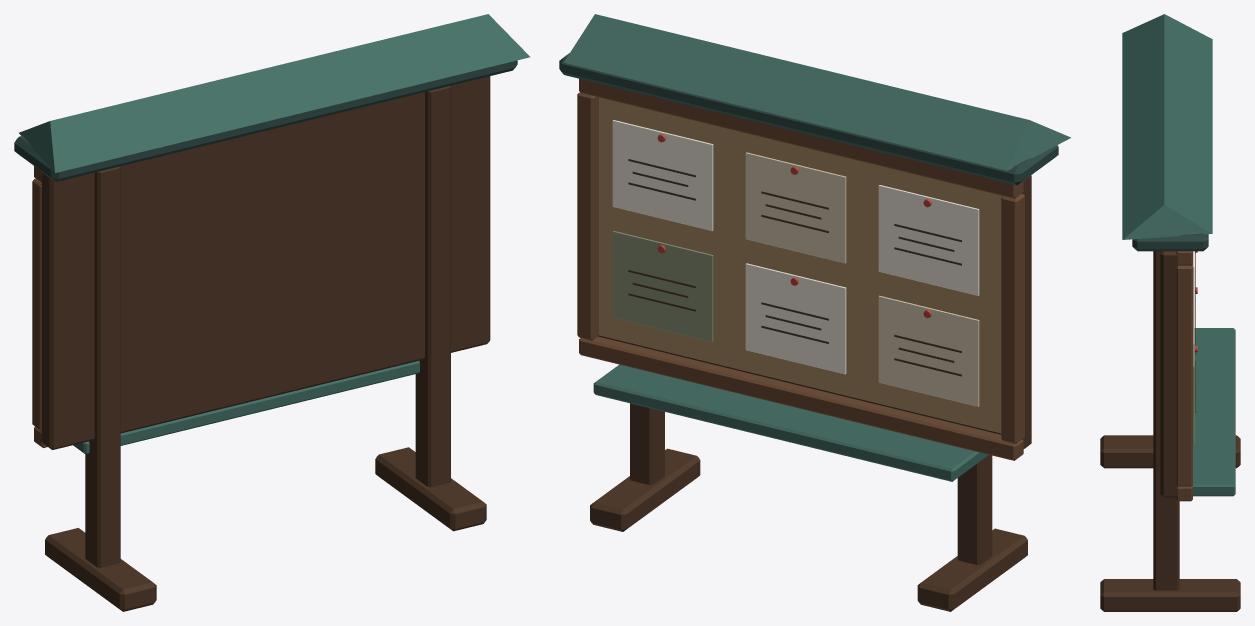
Rendered from SU_02_Notice_Board.fbx.
3 renders of one model, left to right at view 1: azimuth 30°, elevation 25°; view 2: azimuth 150°, elevation 25°; view 3: azimuth 270°, elevation 25°, orthographic. The views are drawn at different scales.
Visible parts, largest first — view 1: SU_02_Notice_Board; view 2: SU_02_Notice_Board; view 3: SU_02_Notice_Board.
Boxes of the visible parts, left/top/right/bottom form: SU_02_Notice_Board: left=14, top=14, right=530, bottom=611; SU_02_Notice_Board: left=559, top=14, right=1070, bottom=611; SU_02_Notice_Board: left=1100, top=14, right=1240, bottom=611.
Bounding box in the file's own units: 2.45 × 0.7 × 2.34.
